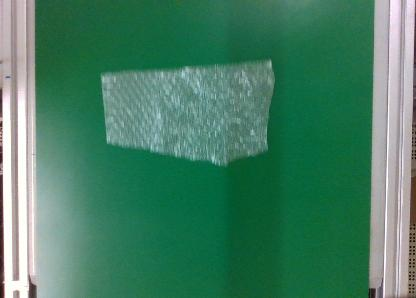Others: (98, 60, 274, 172)
